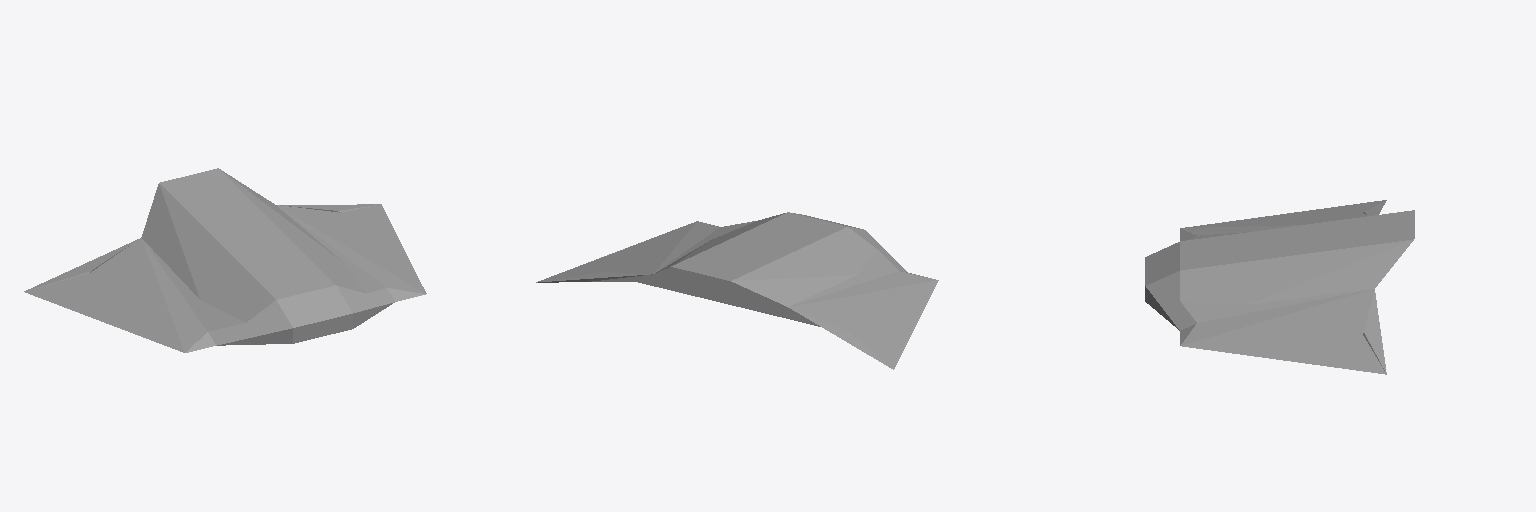
Rendered from enemy1.obj.
The picture shows the model from 3 angles: view 1: azimuth 30°, elevation 25°; view 2: azimuth 150°, elevation 25°; view 3: azimuth 270°, elevation 25°; orthographic projection.
Visible parts, largest first — view 1: Cube; view 2: Cube; view 3: Cube.
Boxes of the visible parts, x1=… form: Cube: x1=24, y1=168, x2=426, y2=352; Cube: x1=536, y1=212, x2=938, y2=369; Cube: x1=1145, y1=200, x2=1414, y2=374.
Bounding box in the file's own units: 12 × 2 × 7.8.